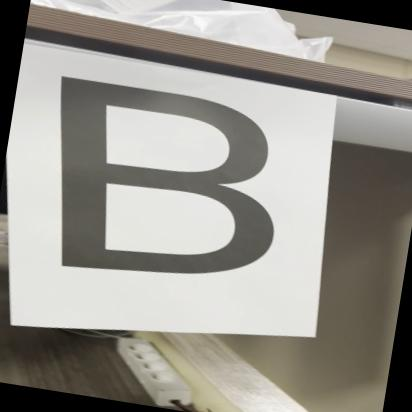seat: (14, 67, 298, 309)
